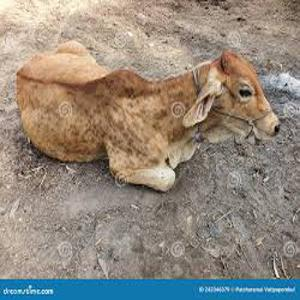lumpy skin diesease: (15, 39, 281, 192)
